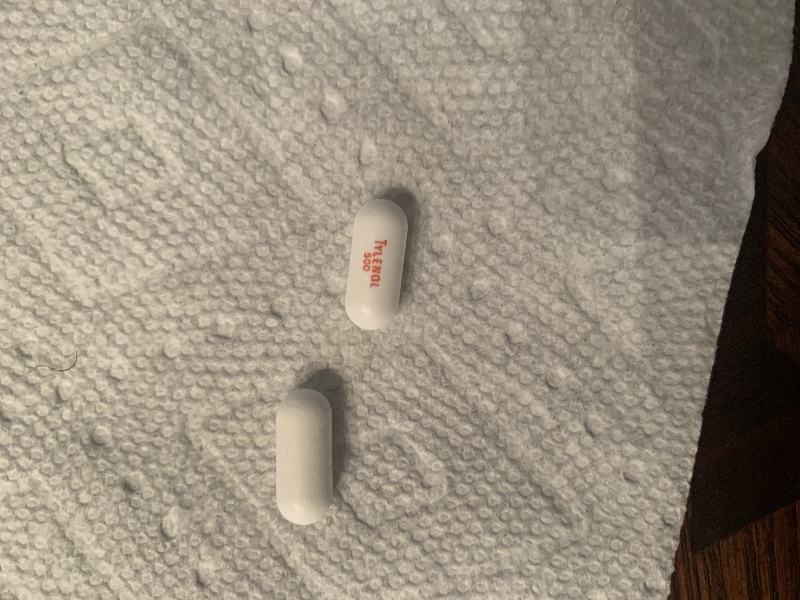Tylenol: (341, 195, 411, 335), (273, 388, 335, 528)
